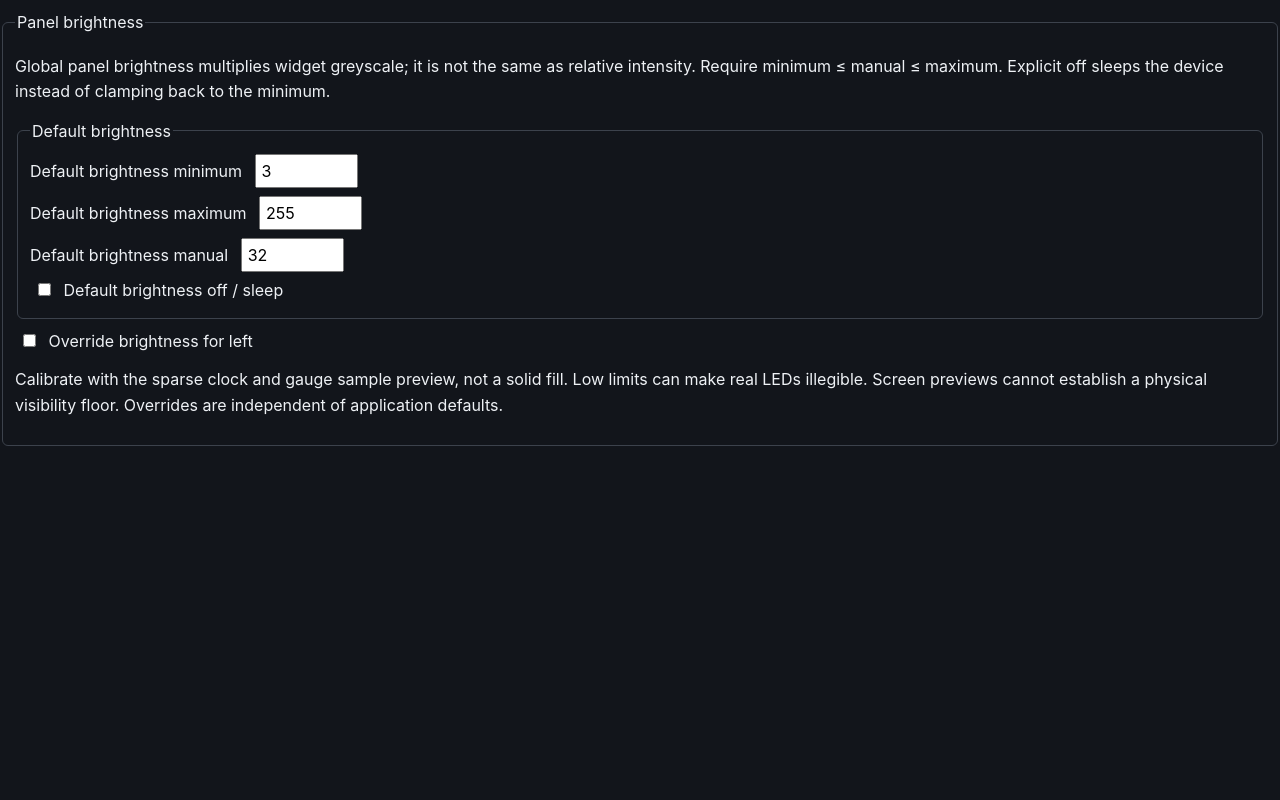
Test: overrides are explicit and independent from application defaults
The width and height of the screenshot is (1280, 800).
Click the checkbox labelled "Override brightness for left": click(30, 341) [23,334,36,347]
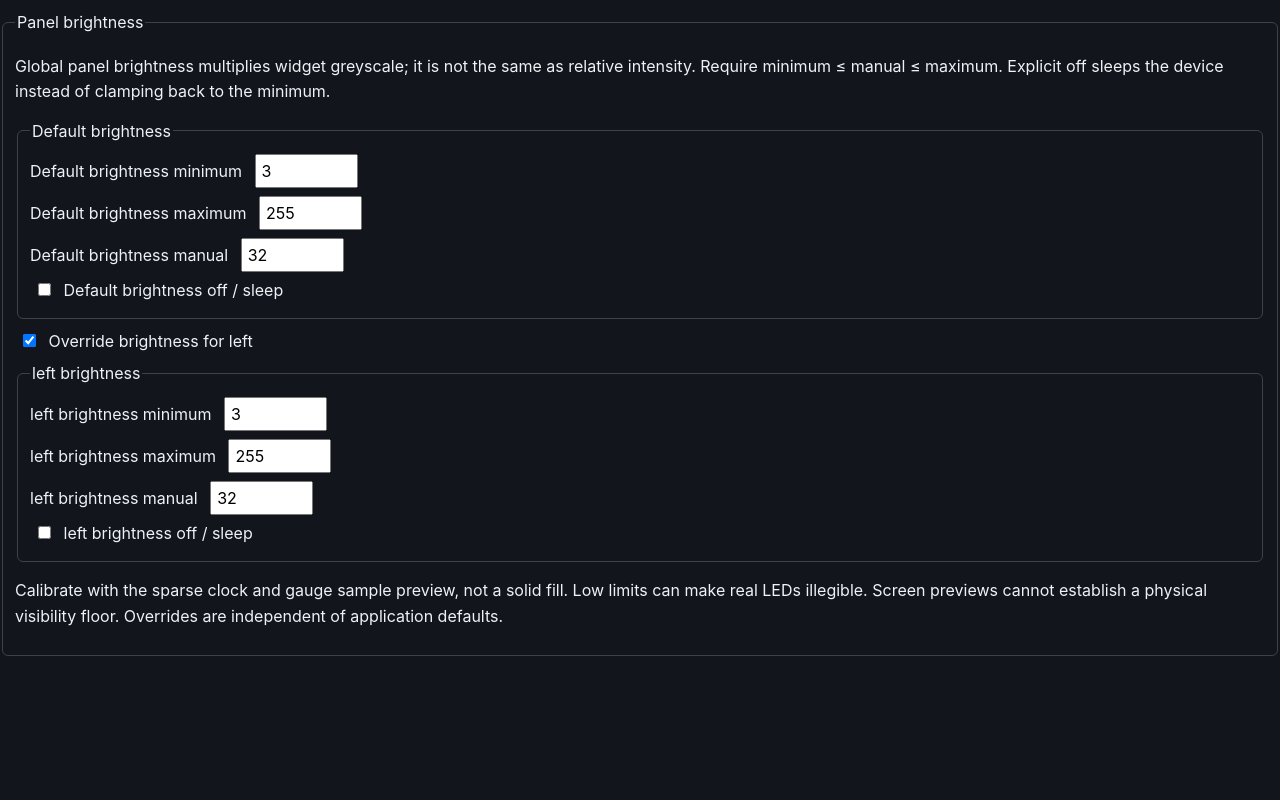
Replace the text in the number field labelled "left brightness manual" with "50": (262, 498) [210,481,313,515]
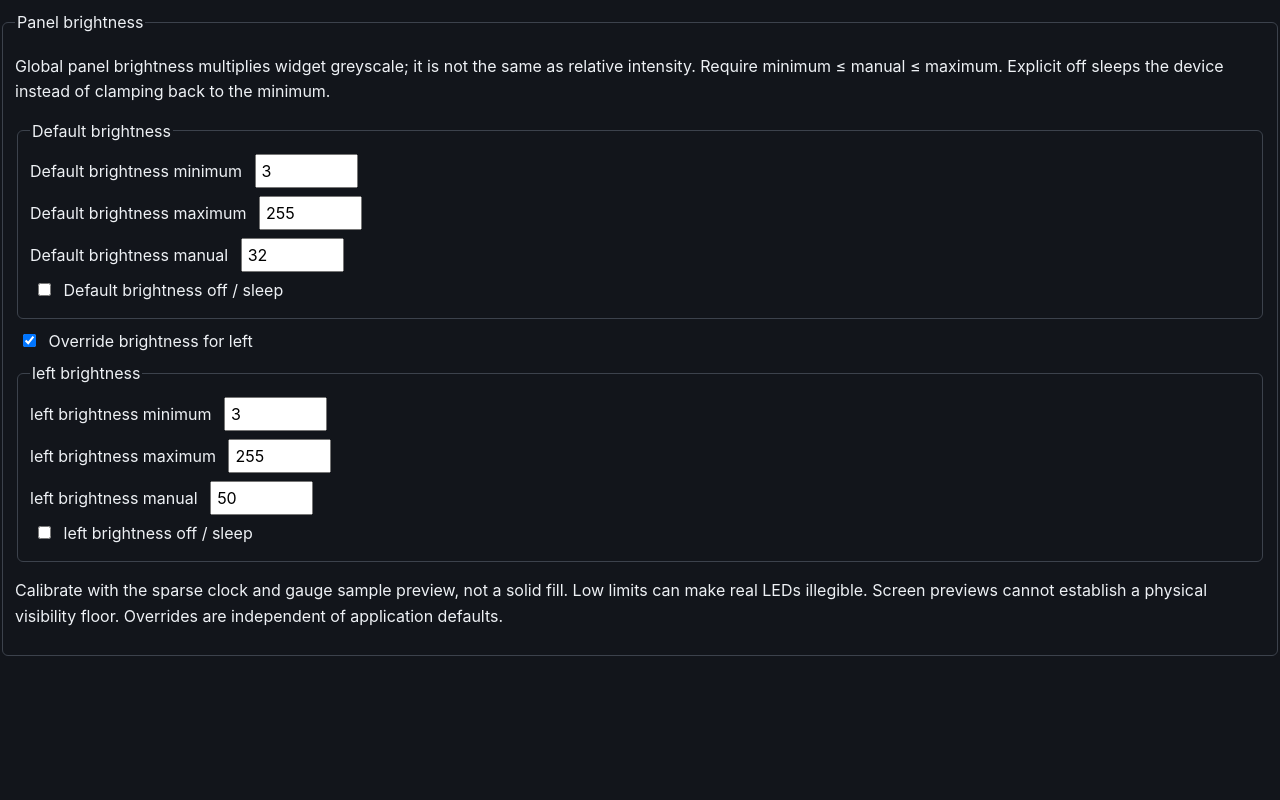
Check: the number field labelled "Default brightness manual" holds "32", box [241,238,344,272]
Click the checkbox labelled "Override brightness for left": click(30, 341) [23,334,36,347]
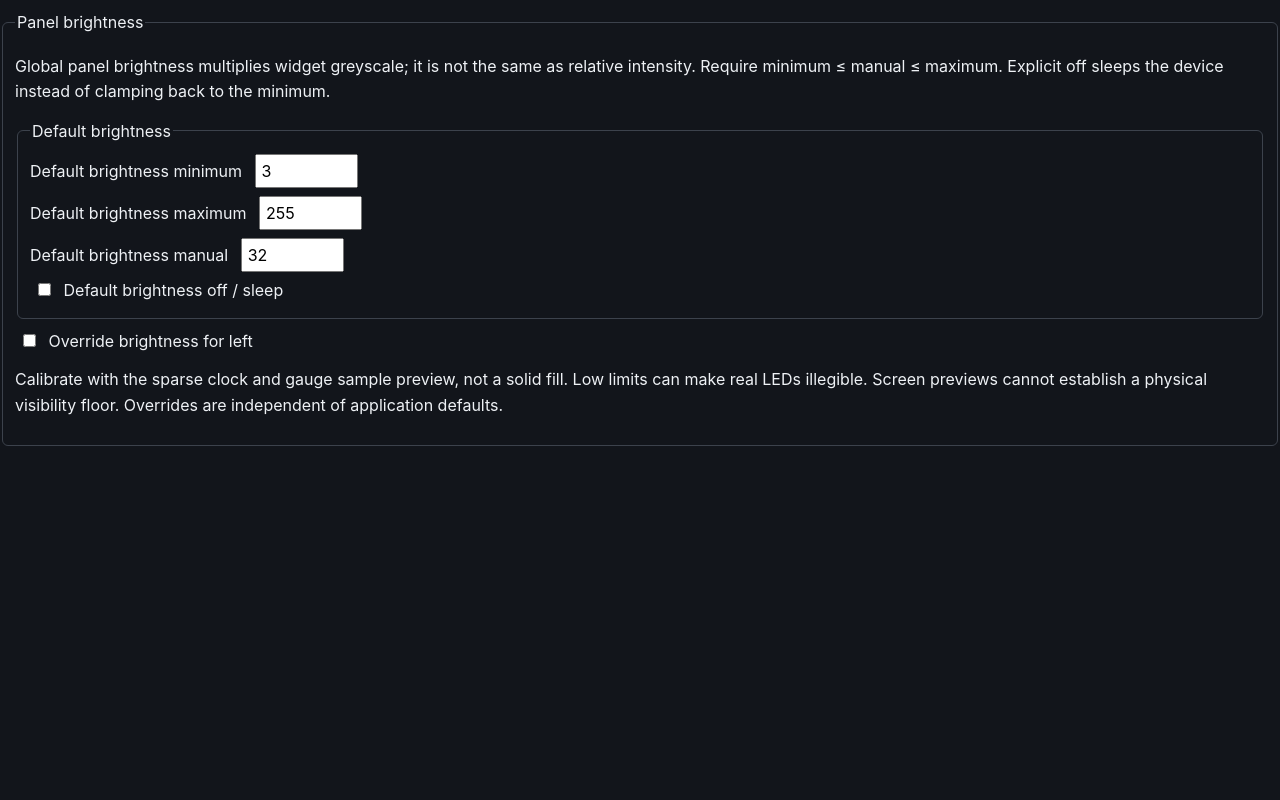
Check: the label labelled "left brightness manual" is gone
